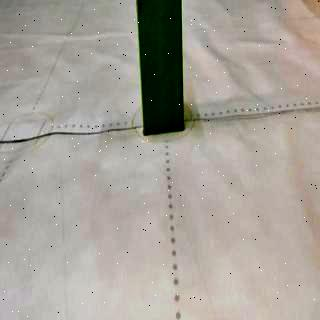greenbox: (132, 1, 188, 132)
